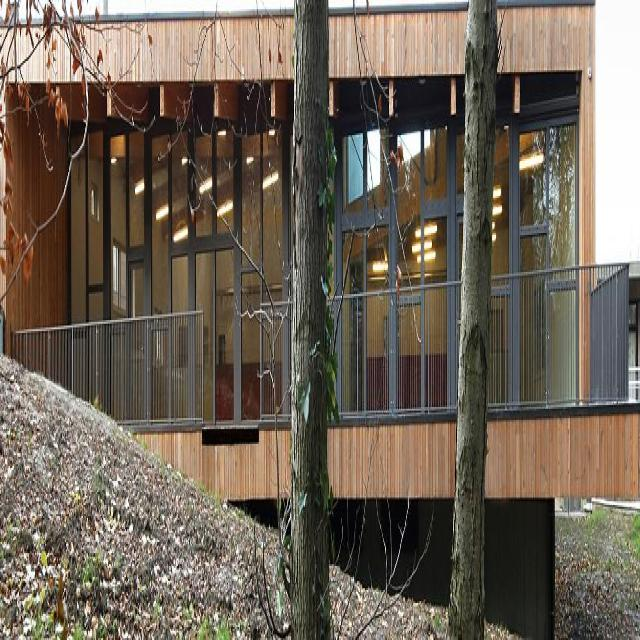railing: (12, 312, 205, 426), (490, 282, 628, 398), (327, 294, 457, 416), (260, 300, 293, 418)
window: (67, 119, 292, 424), (335, 112, 464, 293), (490, 109, 579, 280)
